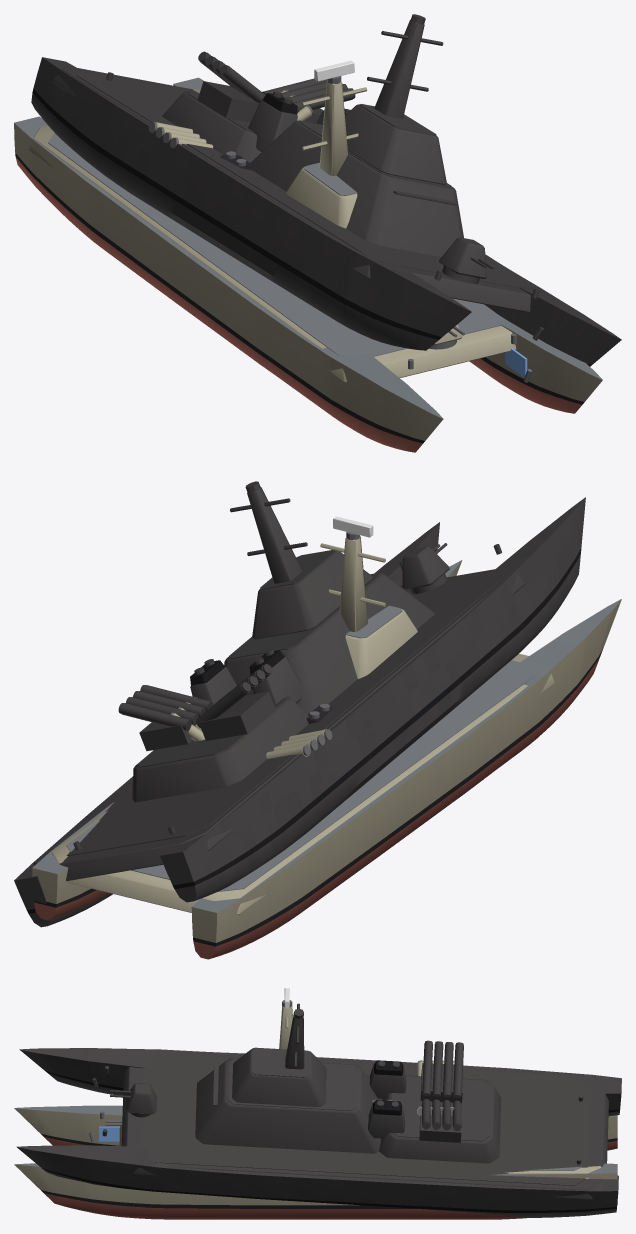
File: missileBoat__type_022.glb
3 views of the same model, one above another, from view 1: azimuth 30°, elevation 25°; view 2: azimuth 150°, elevation 25°; view 3: azimuth 270°, elevation 25° (orthographic). The views are drawn at different scales.
Visible parts, largest first — view 1: Wreck, Hull_Mesh, Radar_Mesh; view 2: Wreck, Hull_Mesh; view 3: Wreck, Hull_Mesh.
Boxes of the visible parts, box(x1,y1,x2,y2) form: Wreck: box(31, 14, 621, 366); Hull_Mesh: box(14, 77, 602, 452); Radar_Mesh: box(314, 60, 354, 83); Wreck: box(14, 481, 585, 927); Hull_Mesh: box(32, 536, 621, 959); Wreck: box(16, 1003, 621, 1217); Hull_Mesh: box(14, 1006, 617, 1219).
Size of what is drawn, in the model's own units: 13.25 by 17.18 by 44.71.
